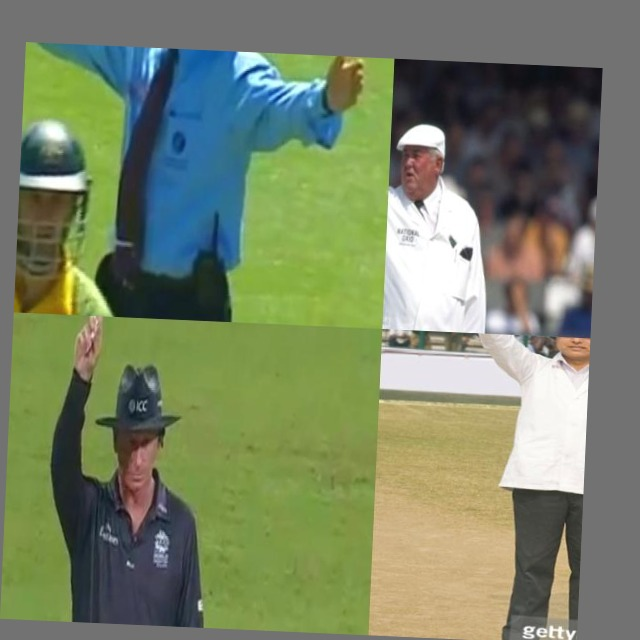Out: (32, 314, 235, 629), (382, 91, 509, 334)
Six: (424, 331, 590, 640)
Wide: (19, 42, 382, 218)
